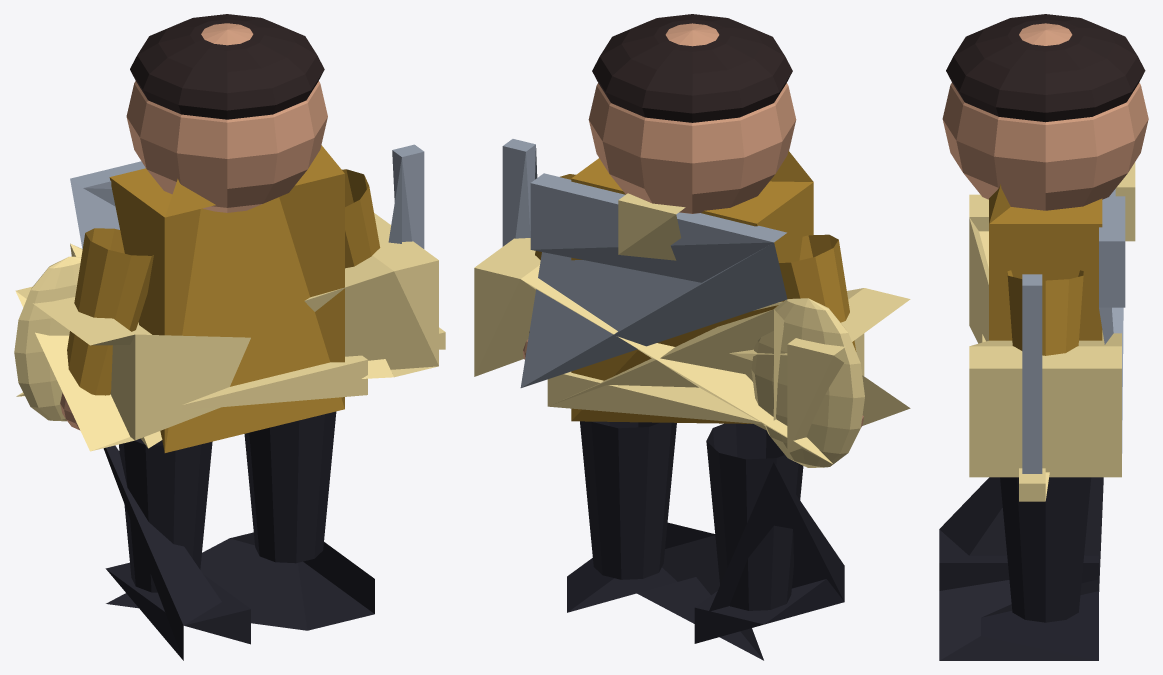
Rendered from Paladin_Female.obj.
3 views of the same model, side by side, from view 1: azimuth 30°, elevation 25°; view 2: azimuth 150°, elevation 25°; view 3: azimuth 270°, elevation 25° (orthographic). The views are drawn at different scales.
Parts seen in each view (by area): view 1: Paladin_Female; view 2: Paladin_Female; view 3: Paladin_Female.
Boxes of the visible parts, left/top/right/bottom form: Paladin_Female: left=14, top=14, right=445, bottom=660; Paladin_Female: left=474, top=14, right=910, bottom=660; Paladin_Female: left=939, top=14, right=1148, bottom=660.
Size of the model in its own units: 1.41 by 1.93 by 0.63.
